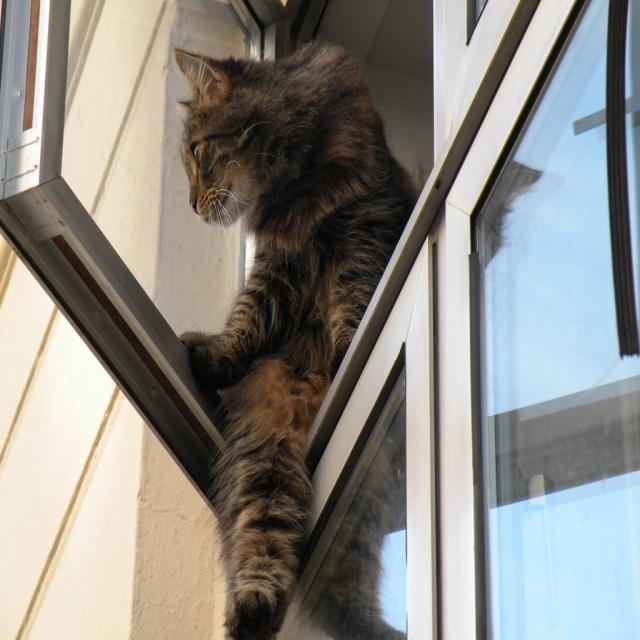Cat: (174, 42, 417, 638)
